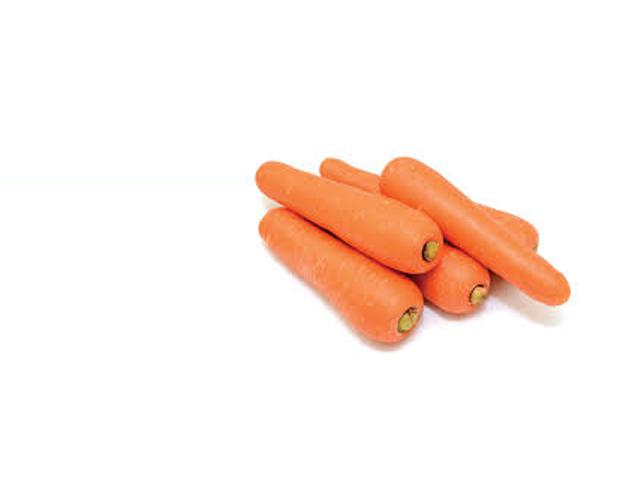carrot: (250, 204, 446, 367)
